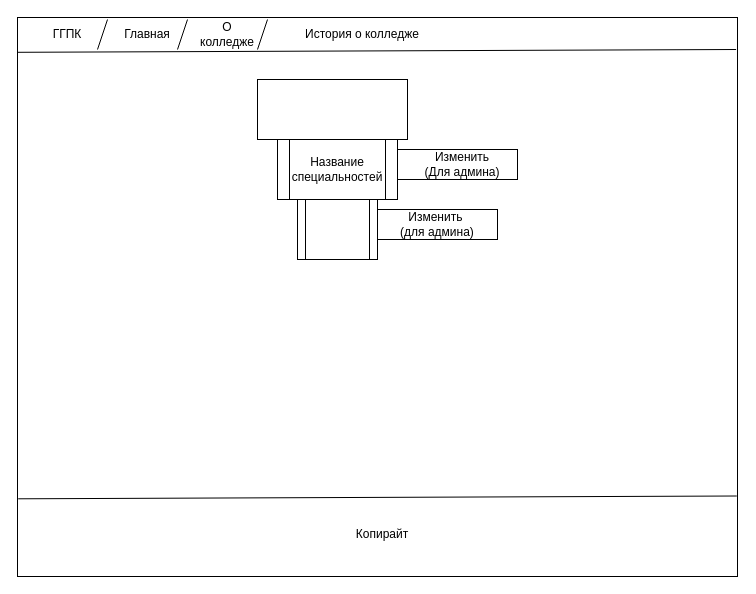
Some shapes in this 756 by 594 pixel diagram are drawn without their labels. Here are the shapes that lost their labels. From the top down, the centre of each, then its label:
At (332,109): "Поиск по специальности".
At (337,229): "Проходной балл".
